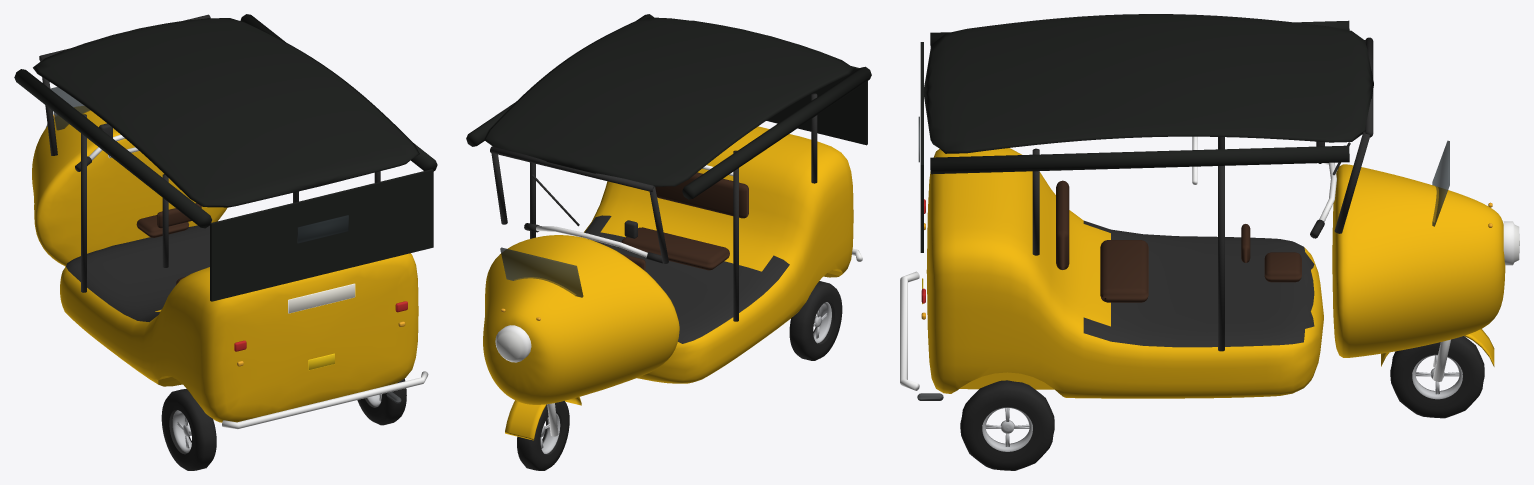
The model's file is auto_2.glb.
3 renders of one model, left to right at view 1: azimuth 30°, elevation 25°; view 2: azimuth 150°, elevation 25°; view 3: azimuth 270°, elevation 25°, orthographic. The views are drawn at different scales.
Visible parts, largest first — view 1: body, wheel_1, wheel_2; view 2: body, wheel_1, wheel_0; view 3: body, wheel_2, wheel_0.
Part boxes in pixels (x1,y1,x2,y2): body: (14,14,437,429); wheel_1: (161,389,216,470); wheel_2: (357,378,406,425); body: (466,14,871,440); wheel_1: (789,281,842,360); wheel_0: (517,401,569,470); body: (900,14,1519,400); wheel_2: (960,380,1054,470); wheel_0: (1390,336,1484,418).
Size of the model in its own units: 1.42 by 1.76 by 2.81.
